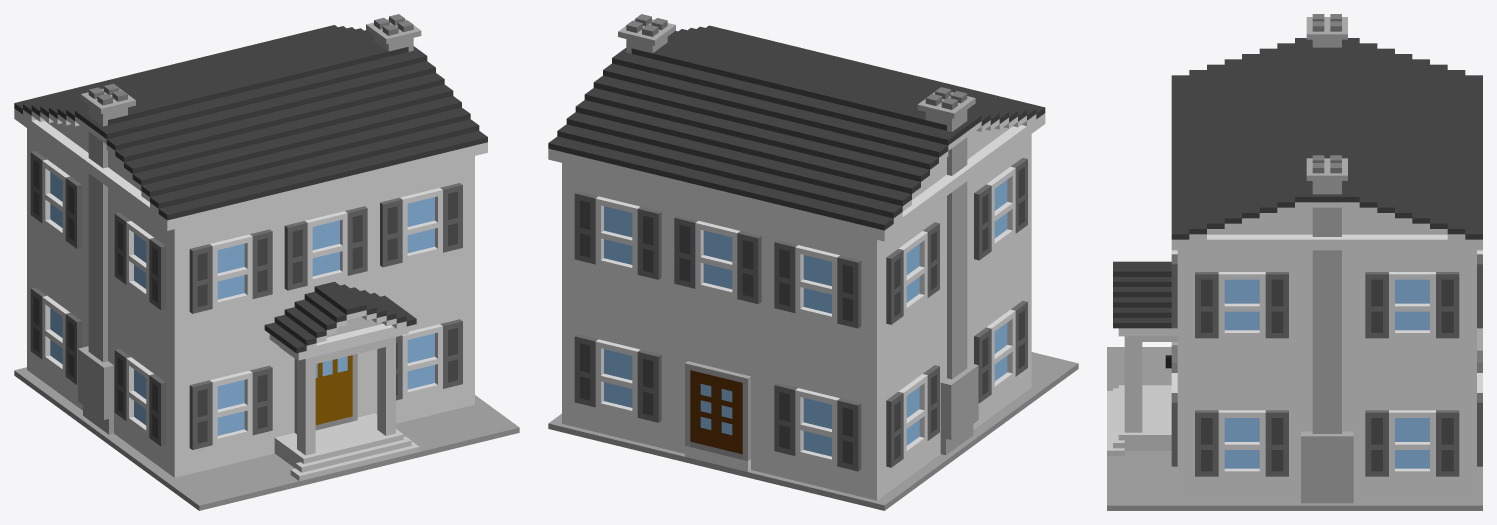
File: obj_house4.obj
The picture shows the model from 3 angles, left to right: view 1: azimuth 30°, elevation 25°; view 2: azimuth 150°, elevation 25°; view 3: azimuth 270°, elevation 25°; orthographic projection. The views are drawn at different scales.
Size of the model in its own units: 6.4 by 6.4 by 6.4.
1 material, 1 textured.
